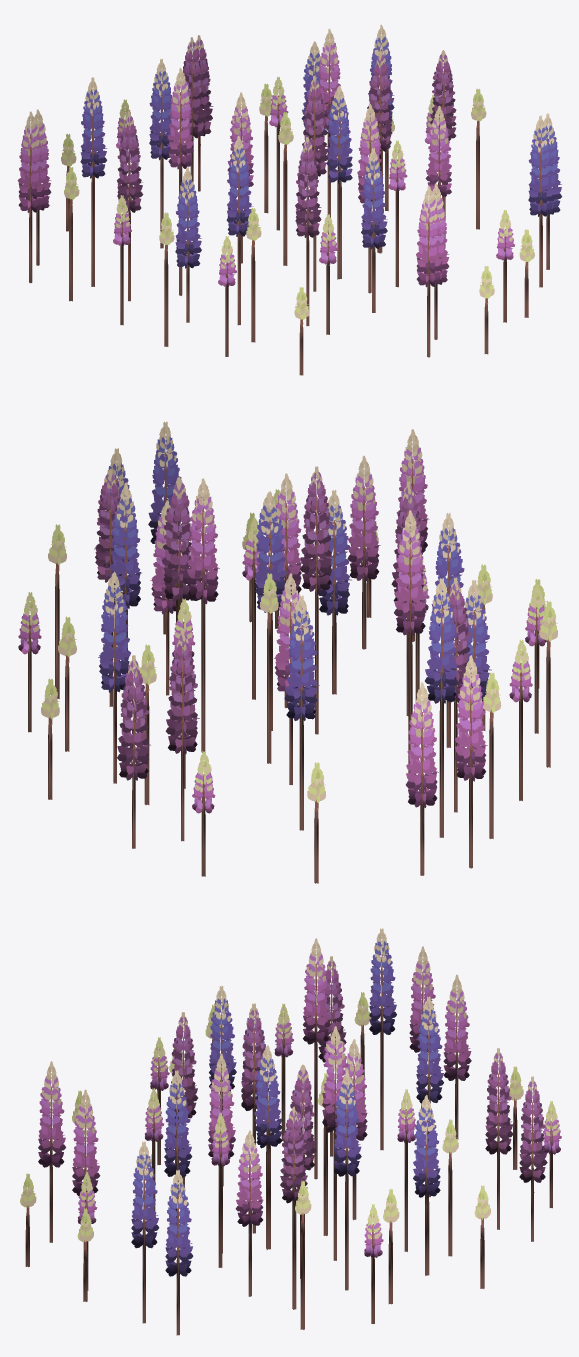
File: SM_Env_Bush_Flower_01_Alt.fbx
3 views of the same model, one above another, from view 1: azimuth 30°, elevation 25°; view 2: azimuth 150°, elevation 25°; view 3: azimuth 270°, elevation 25° (orthographic). The views are drawn at different scales.
Visible parts, largest first — view 1: SM_Env_Bush_Flower_01_Alt_LOD0; view 2: SM_Env_Bush_Flower_01_Alt_LOD0; view 3: SM_Env_Bush_Flower_01_Alt_LOD0.
Boxes of the visible parts, <box> form: SM_Env_Bush_Flower_01_Alt_LOD0: <box>17,24,562,375</box>; SM_Env_Bush_Flower_01_Alt_LOD0: <box>18,421,557,883</box>; SM_Env_Bush_Flower_01_Alt_LOD0: <box>20,928,561,1335</box>.
Size of what is drawn, in the model's own units: 349 by 179 by 366.
1 material, 1 textured.
